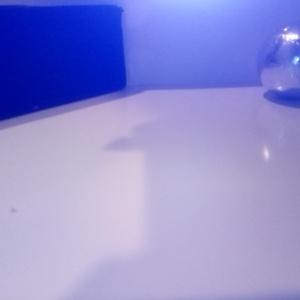alive_ball: (258, 21, 300, 100)
